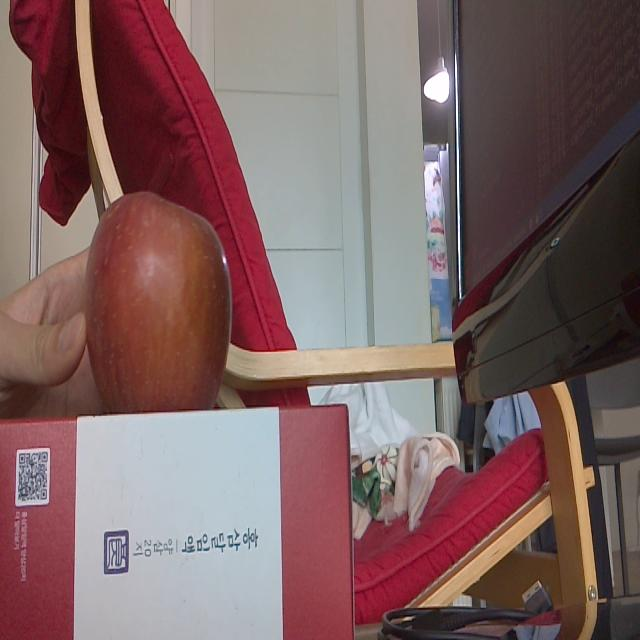apple: (83, 188, 237, 410)
